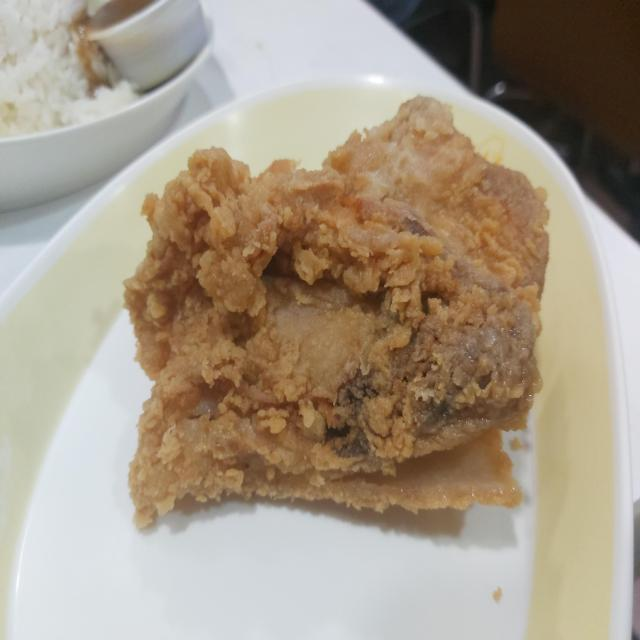Chicken -Fried Chicken-: (109, 97, 543, 490)
